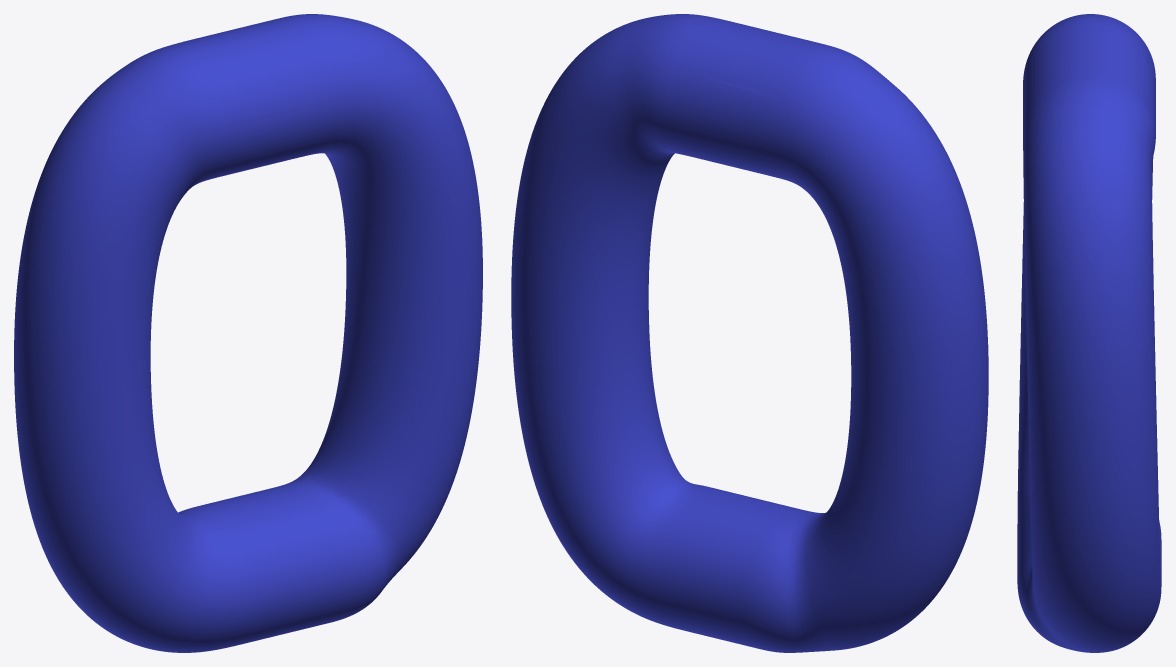
The model's file is letter-o.glb.
3 views of the same model, side by side, from view 1: azimuth 30°, elevation 25°; view 2: azimuth 150°, elevation 25°; view 3: azimuth 270°, elevation 25° (orthographic). The views are drawn at different scales.
Visible parts, largest first — view 1: node_id3; view 2: node_id3; view 3: node_id3.
Boxes of the visible parts, x1=… form: node_id3: x1=14, y1=14, x2=482, y2=652; node_id3: x1=511, y1=14, x2=988, y2=652; node_id3: x1=1017, y1=14, x2=1161, y2=652.
Bounding box in the file's own units: 0.4073 × 0.512 × 0.1194.
1 material, 1 textured.
